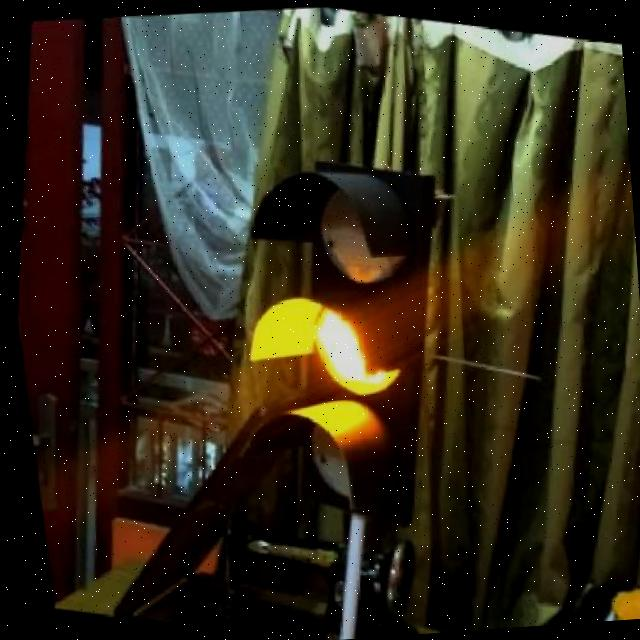yellow_light: (188, 138, 470, 538)
